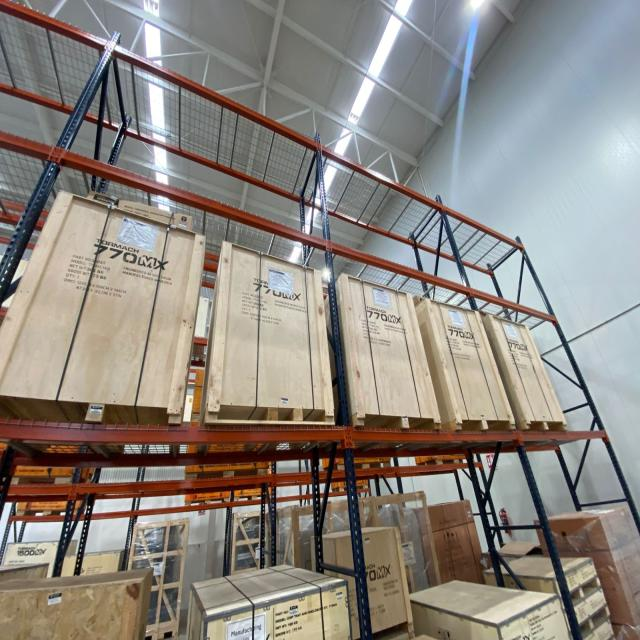770b: (0, 193, 205, 424), (200, 242, 334, 425), (335, 273, 440, 428), (415, 298, 515, 429), (482, 314, 566, 429)
